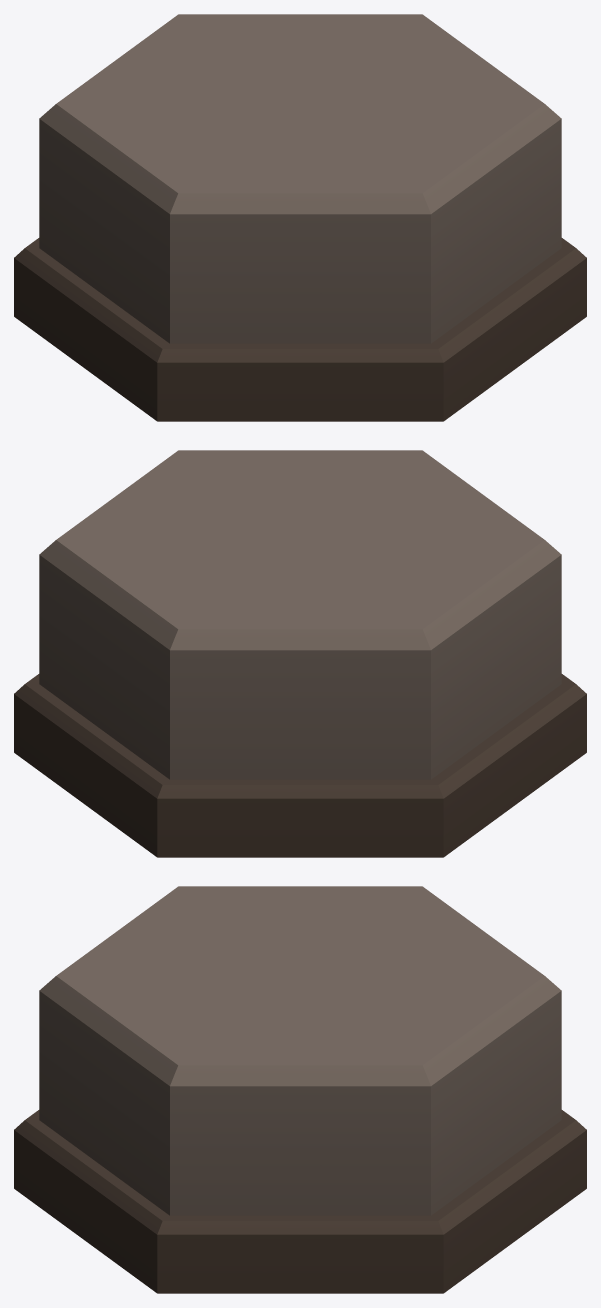
Rendered from Pillar 08.FBX.
The picture shows the model from 3 angles, top to bottom: view 1: azimuth 30°, elevation 25°; view 2: azimuth 150°, elevation 25°; view 3: azimuth 270°, elevation 25°; orthographic projection.
Parts seen in each view (by area): view 1: Pillar 08; view 2: Pillar 08; view 3: Pillar 08.
Boxes of the visible parts, x1,y1,x2,y2 form: Pillar 08: (14, 14, 586, 421); Pillar 08: (14, 450, 586, 857); Pillar 08: (14, 886, 586, 1293).
Bounding box in the file's own units: 280 × 133 × 323.
1 material, 1 textured.
